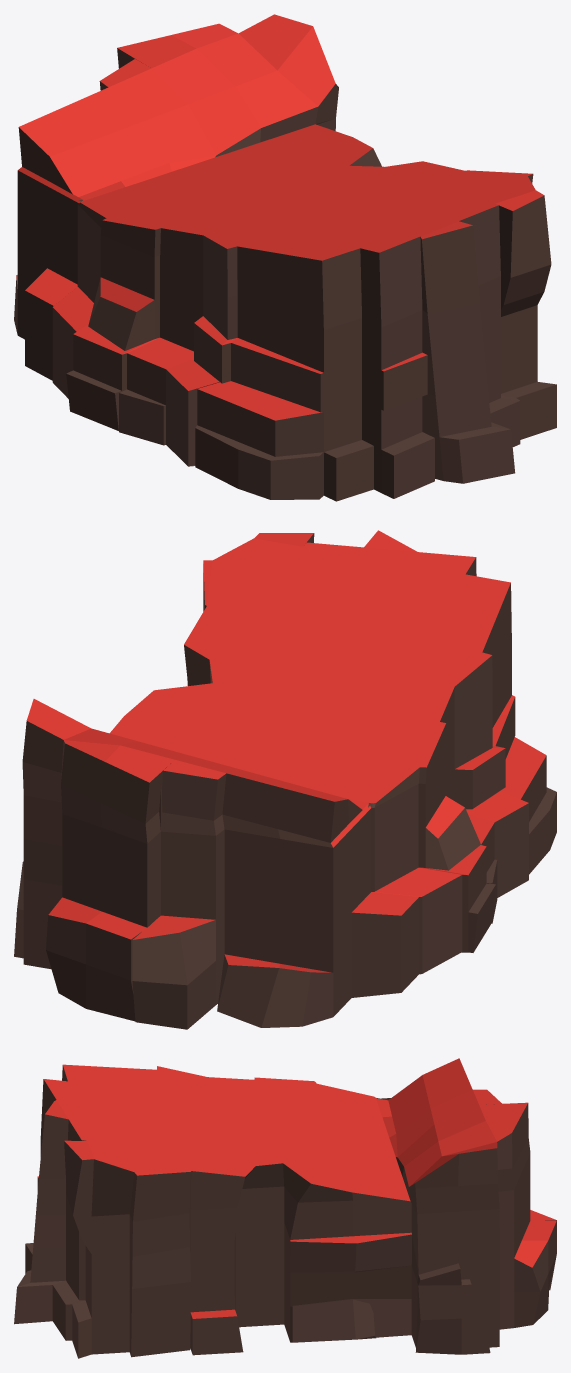
File: Falaise_04.fbx
The picture shows the model from 3 angles, top to bottom: view 1: azimuth 30°, elevation 25°; view 2: azimuth 150°, elevation 25°; view 3: azimuth 270°, elevation 25°; orthographic projection. The views are drawn at different scales.
Visible parts, largest first — view 1: Cube.001; view 2: Cube.001; view 3: Cube.001.
Boxes of the visible parts, box(x1,y1,x2,y2) form: Cube.001: box(14, 14, 556, 501); Cube.001: box(14, 530, 556, 1029); Cube.001: box(14, 1058, 556, 1358).
Bounding box in the file's own units: 1770 × 1124 × 2715.
